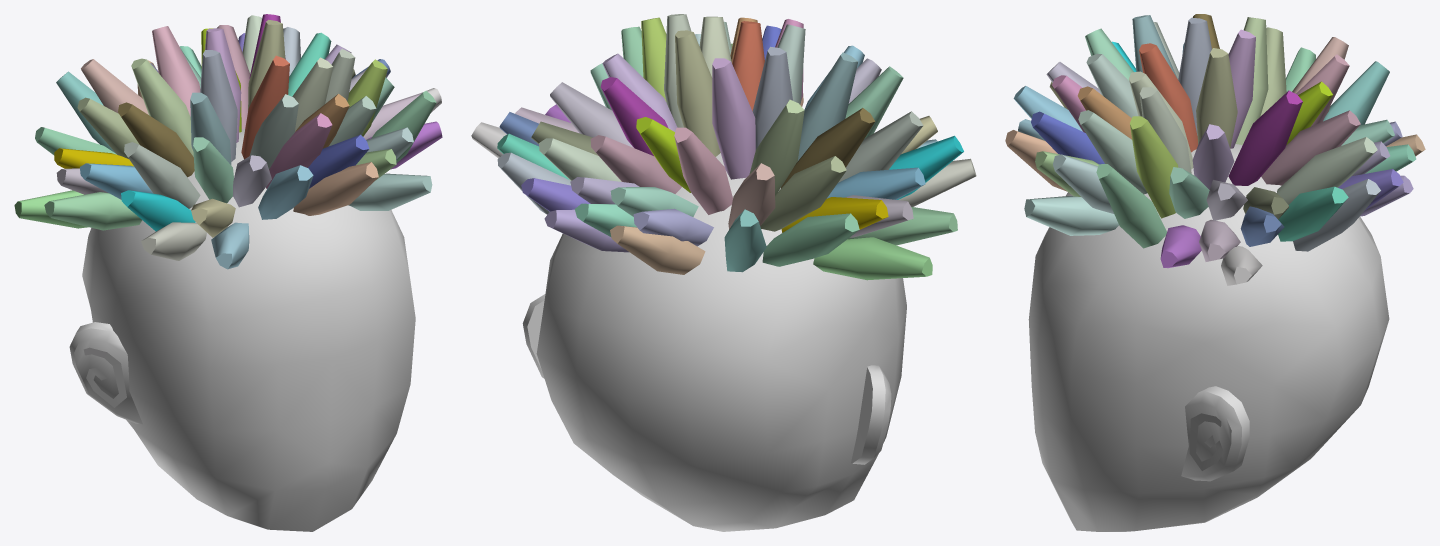
The model's file is Hair7.glb.
3 renders of one model, left to right at view 1: azimuth 30°, elevation 25°; view 2: azimuth 150°, elevation 25°; view 3: azimuth 270°, elevation 25°, orthographic. The views are drawn at different scales.
Visible parts, largest first — view 1: Head; view 2: Head; view 3: Head.
Part boxes in pixels (x1,y1,x2,y2): Head: [14, 14, 442, 531]; Head: [471, 14, 976, 531]; Head: [1005, 14, 1425, 531].
Bounding box in the file's own units: 0.7666 × 0.797 × 0.6272.
